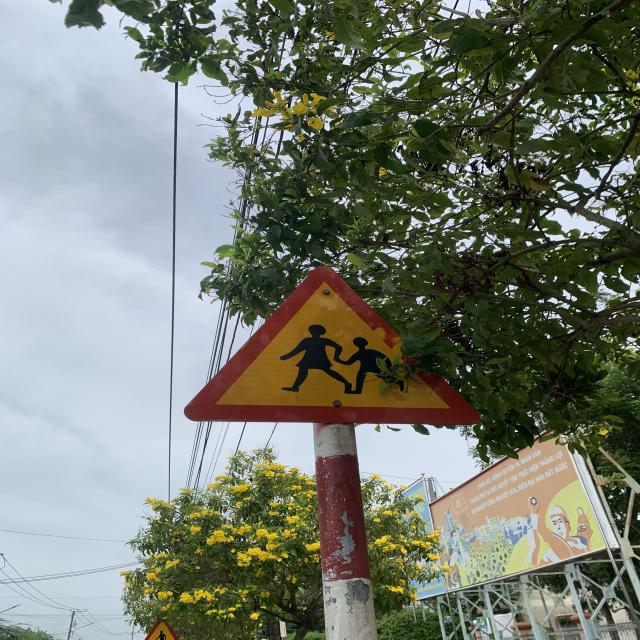Vong_Xuyen: (183, 264, 478, 424)
